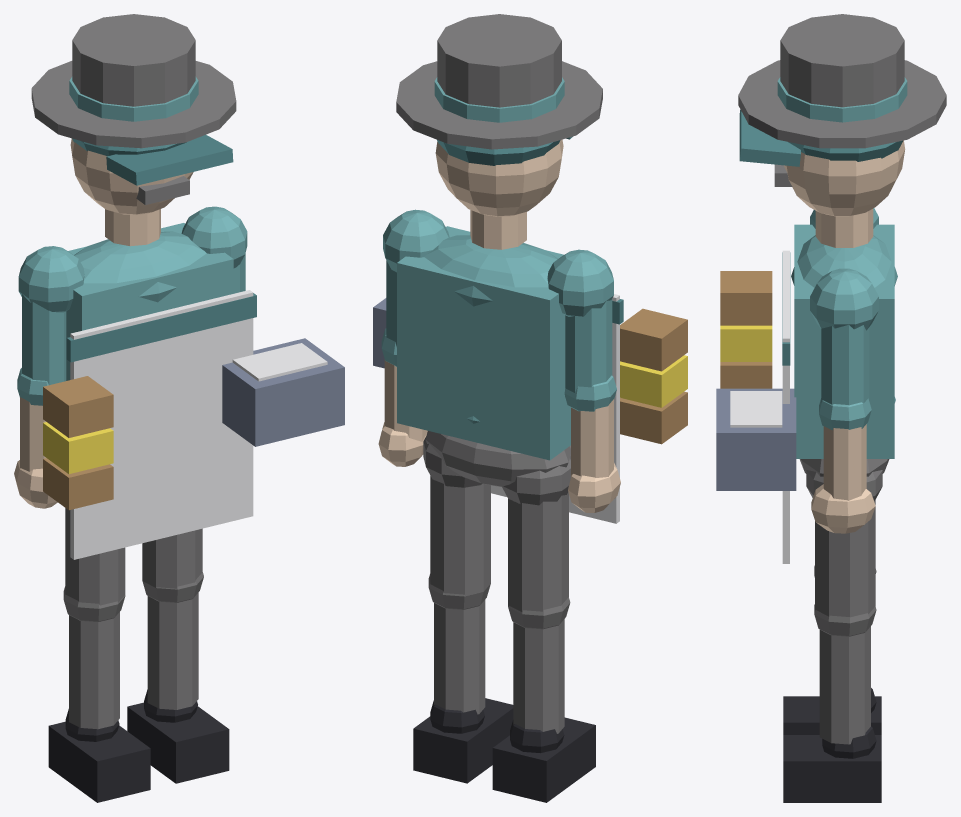
Rendered from vendor.glb.
The picture shows the model from 3 angles, left to right: view 1: azimuth 30°, elevation 25°; view 2: azimuth 150°, elevation 25°; view 3: azimuth 270°, elevation 25°; orthographic projection.
Parts seen in each view (by area): view 1: vendor; view 2: vendor; view 3: vendor.
Part boxes in pixels (x1,y1,x2,y2): vendor: (14,14,344,802); vendor: (373,14,687,802); vendor: (716,14,946,802).
Bounding box in the file's own units: 0.795 × 2.01 × 0.575.
